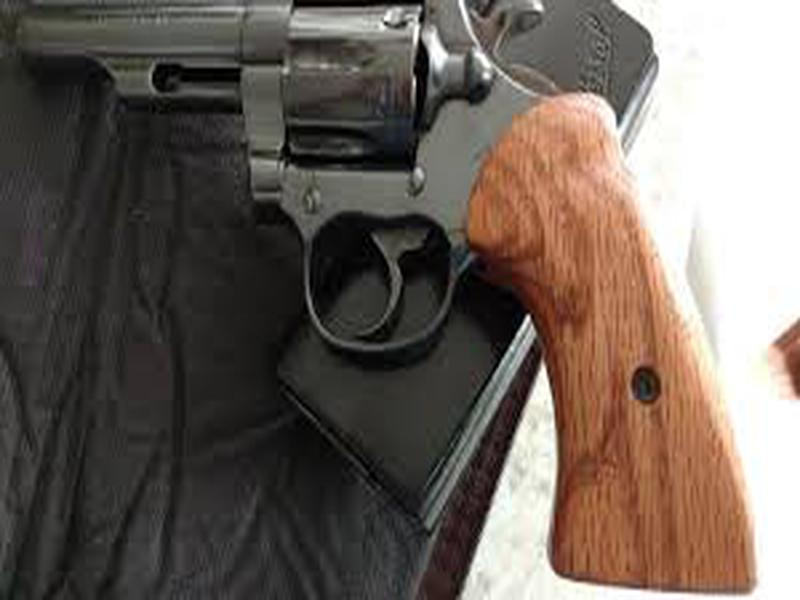gun: (15, 2, 761, 591)
